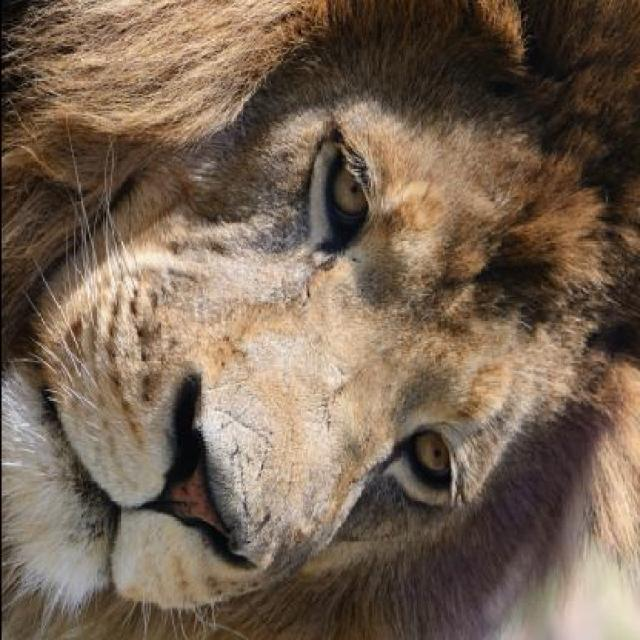Lion: (2, 10, 626, 632)
